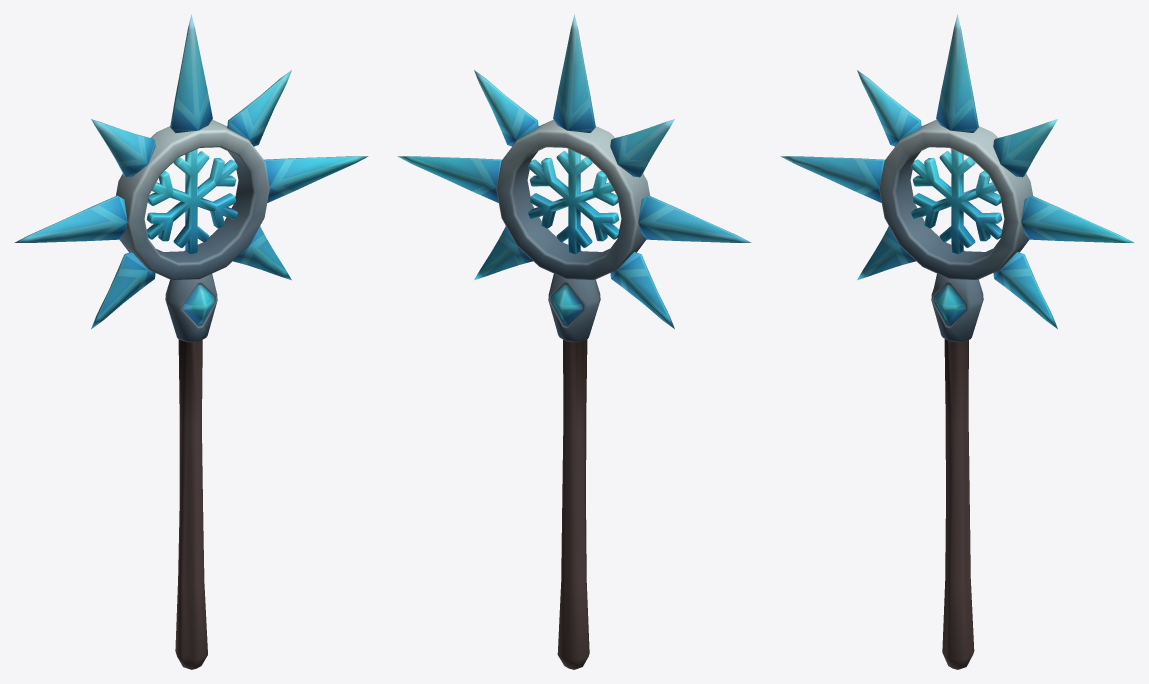
The model's file is SM_IceMage_lv3_Weapon.fbx.
3 renders of one model, left to right at view 1: azimuth 30°, elevation 25°; view 2: azimuth 150°, elevation 25°; view 3: azimuth 330°, elevation 25°, orthographic.
Parts seen in each view (by area): view 1: SM_IceMage_lv3_Weapon; view 2: SM_IceMage_lv3_Weapon; view 3: SM_IceMage_lv3_Weapon.
Boxes of the visible parts, left/top/right/bottom form: SM_IceMage_lv3_Weapon: left=14, top=14, right=368, bottom=669; SM_IceMage_lv3_Weapon: left=397, top=14, right=751, bottom=669; SM_IceMage_lv3_Weapon: left=780, top=14, right=1134, bottom=669.
Size of the model in its own units: 1.15 by 2.03 by 0.1609.
